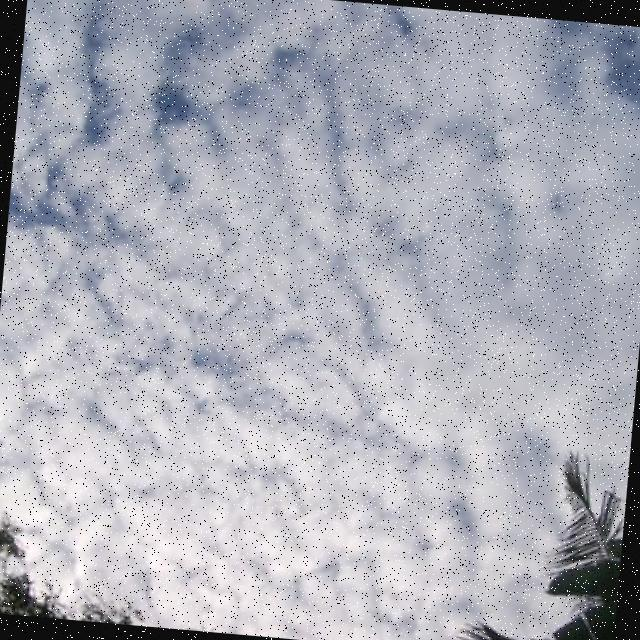Ac: (1, 1, 640, 487)
